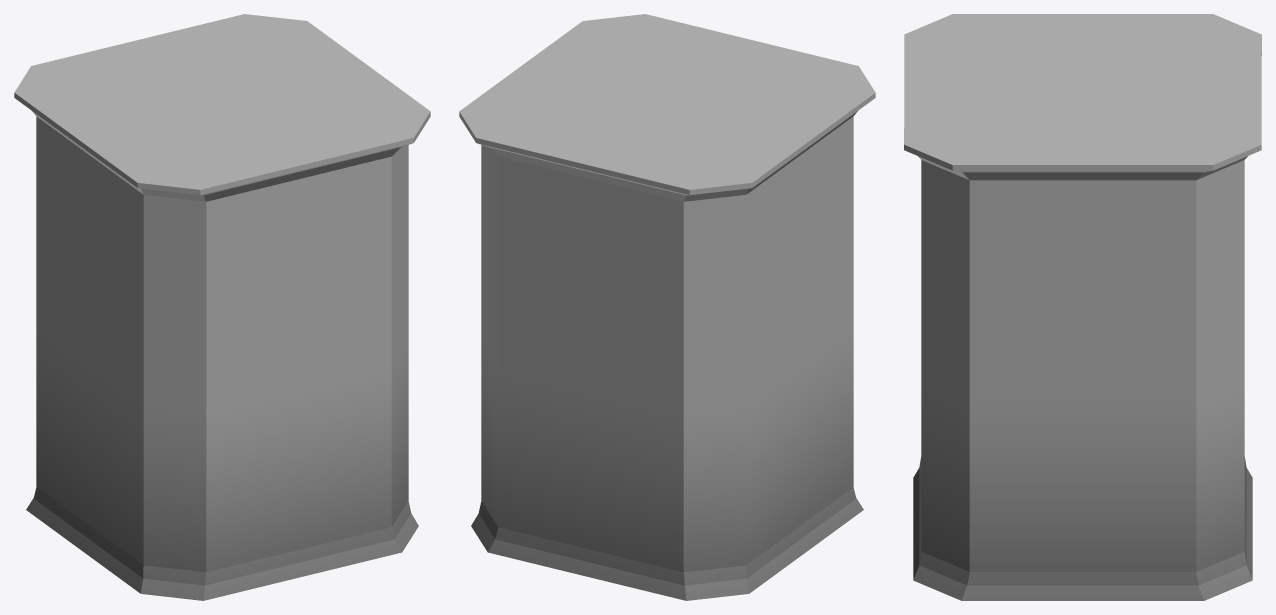
The model's file is Pillar.fbx.
3 views of the same model, side by side, from view 1: azimuth 30°, elevation 25°; view 2: azimuth 150°, elevation 25°; view 3: azimuth 270°, elevation 25° (orthographic). The views are drawn at different scales.
Parts seen in each view (by area): view 1: Pillar; view 2: Pillar; view 3: Pillar.
Boxes of the visible parts, left/top/right/bottom form: Pillar: left=14, top=14, right=430, bottom=600; Pillar: left=459, top=14, right=875, bottom=600; Pillar: left=904, top=14, right=1261, bottom=600.
Bounding box in the file's own units: 221 × 300 × 221.
